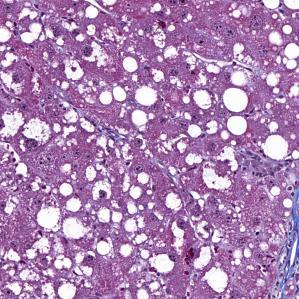fibrosis: (273, 193, 299, 299)
